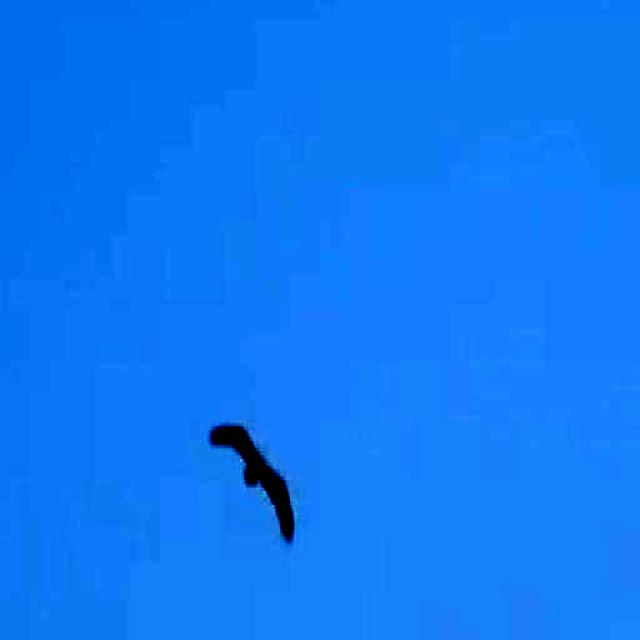airplane: (204, 376, 311, 580)
